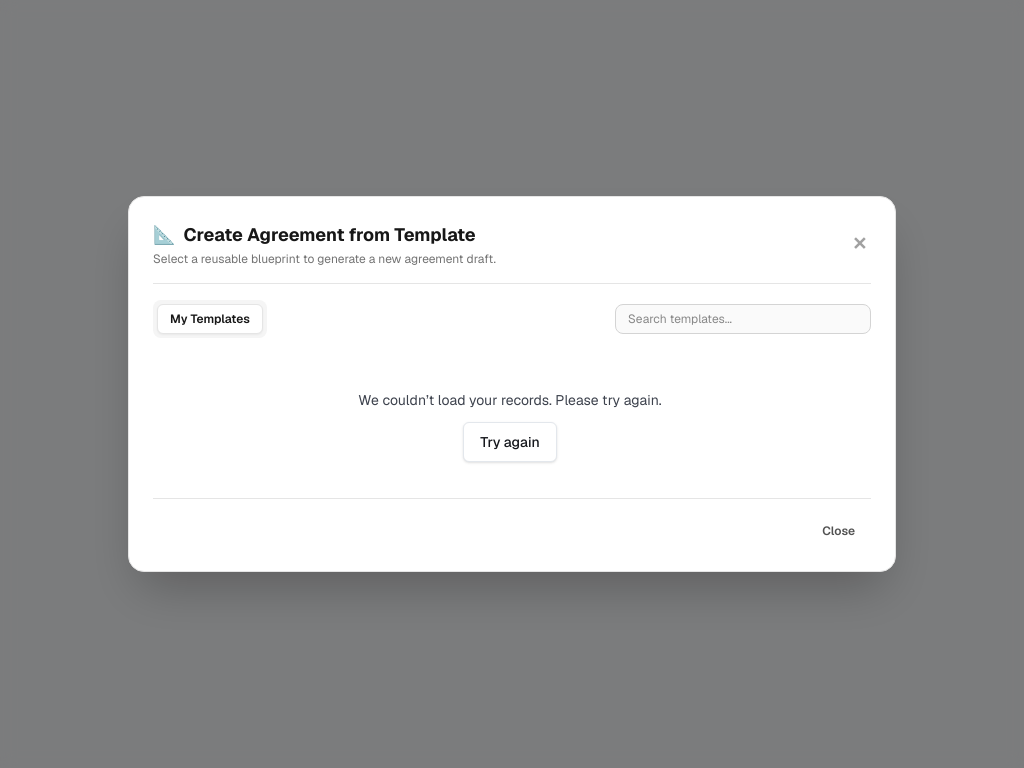
Scenario: ChooseTemplateModal Unit Tests (INK-264) › offers a working retry after exhausted attempts instead of an empty list
The width and height of the screenshot is (1024, 768).
Expected: the message shows "Please try again", [358,391,662,409]
Click the button "Try again". click: {"x": 510, "y": 442}
box: [463,422,557,462]
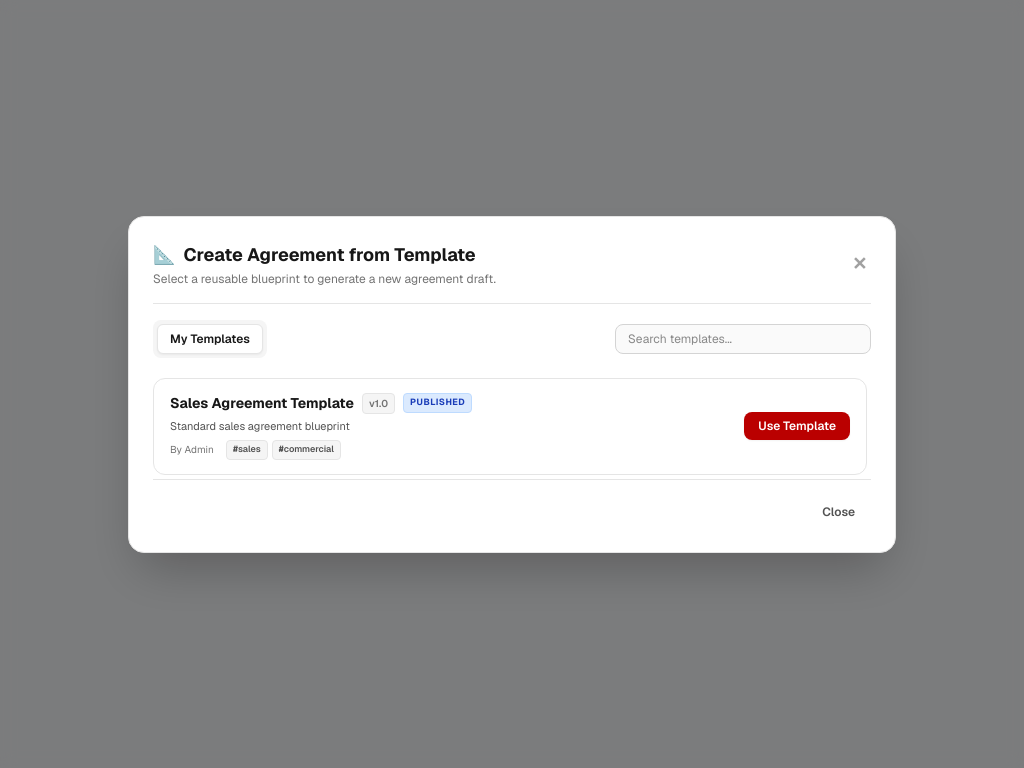
Expected: the heading "Sales Agreement Template" is shown, [170,393,354,413]
